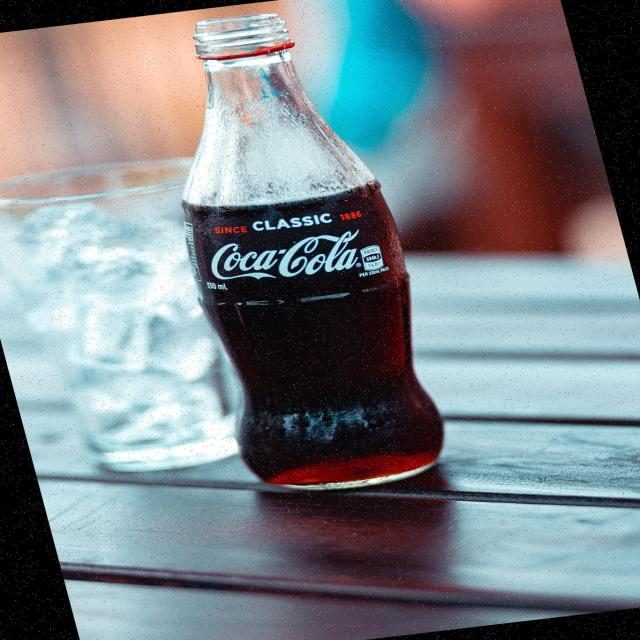coca-cola: (198, 221, 382, 292)
